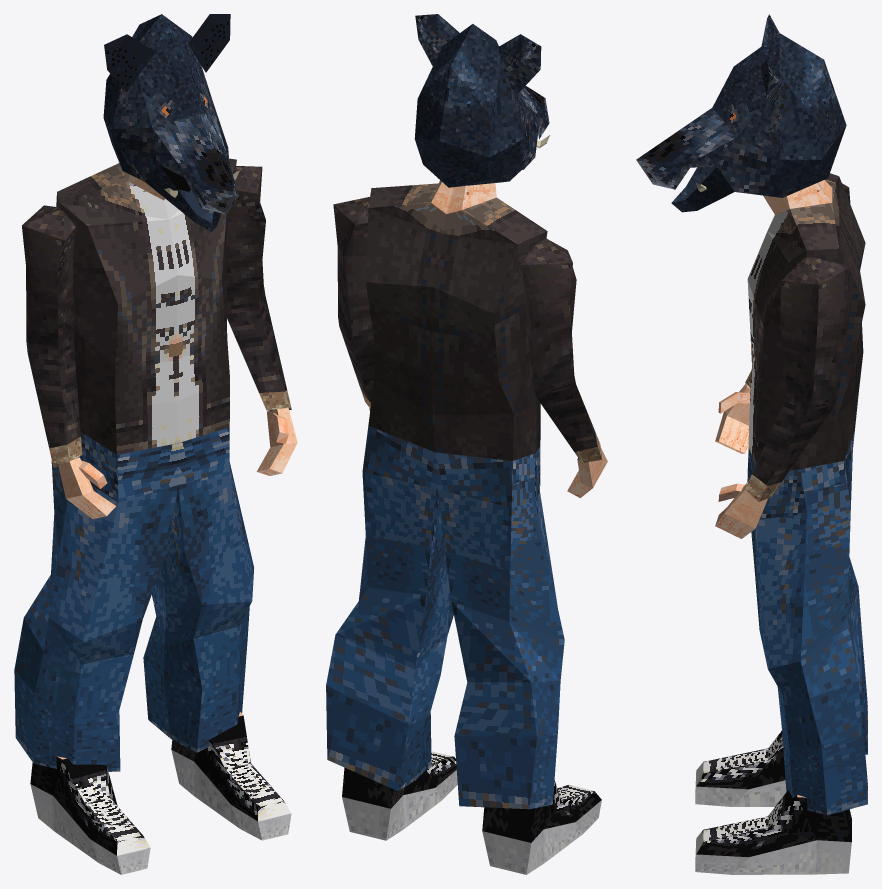
The model's file is boar-man-char.glb.
The picture shows the model from 3 angles, left to right: view 1: azimuth 30°, elevation 25°; view 2: azimuth 150°, elevation 25°; view 3: azimuth 270°, elevation 25°; orthographic projection.
Visible parts, largest first — view 1: boar-man; view 2: boar-man; view 3: boar-man.
Boxes of the visible parts, box(x1,y1,x2,y2) form: boar-man: box(14, 14, 297, 874); boar-man: box(326, 14, 607, 874); boar-man: box(636, 14, 867, 874).
Size of the model in its own units: 1.99 by 6.41 by 1.69.
8 materials, 8 textured.
